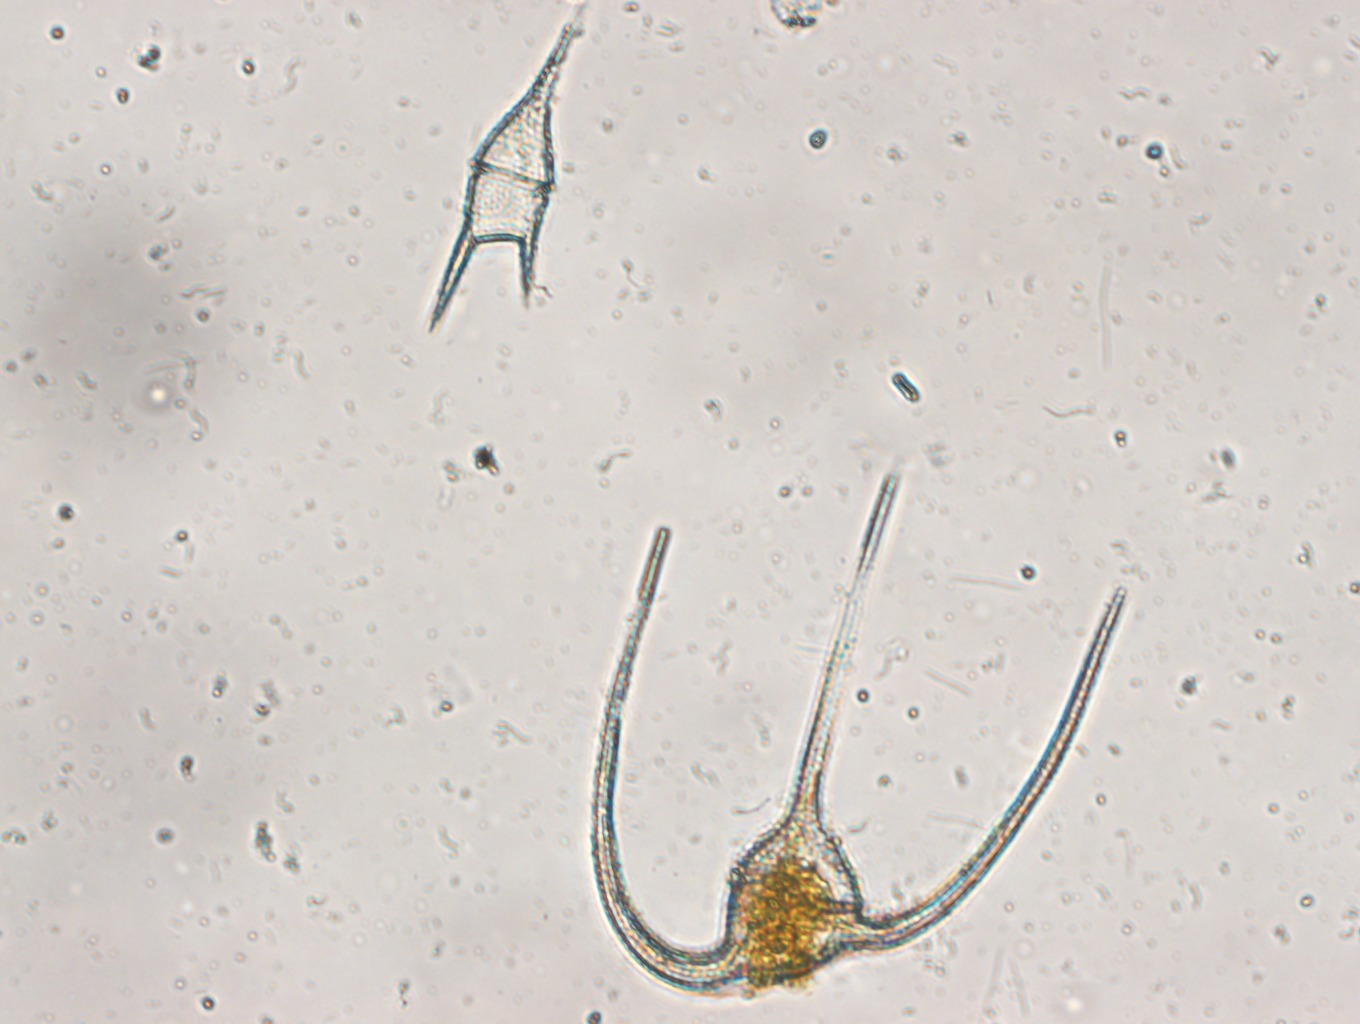ceratium furca: (426, 12, 579, 343)
ceratium trichoceros: (576, 463, 1139, 998)
